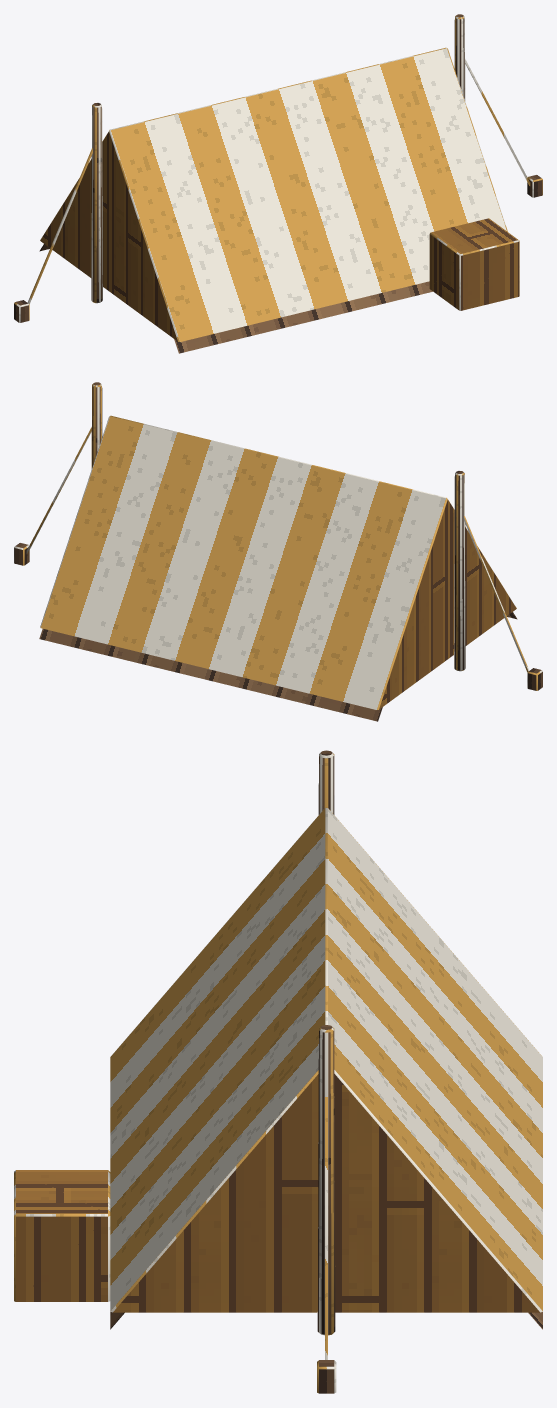
File: spec_tent_3.glb
3 renders of one model, top to bottom at view 1: azimuth 30°, elevation 25°; view 2: azimuth 150°, elevation 25°; view 3: azimuth 270°, elevation 25°, orthographic. The views are drawn at different scales.
Visible parts, largest first — view 1: spec_tent_3; view 2: spec_tent_3; view 3: spec_tent_3.
Boxes of the visible parts, left/top/right/bottom form: spec_tent_3: left=14, top=14, right=542, bottom=353; spec_tent_3: left=14, top=382, right=542, bottom=721; spec_tent_3: left=14, top=750, right=542, bottom=1393.
Size of the model in its own units: 3.9 by 1.43 by 2.2.
Materials: 4 (4 with a texture image).
